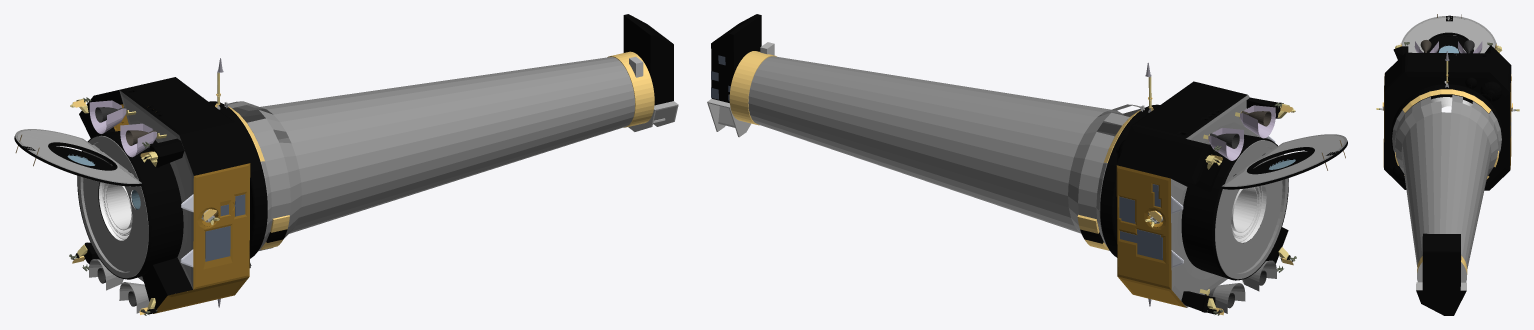
The model's file is fuselage 1.fbx.
3 views of the same model, side by side, from view 1: azimuth 30°, elevation 25°; view 2: azimuth 150°, elevation 25°; view 3: azimuth 270°, elevation 25° (orthographic). The views are drawn at different scales.
Parts seen in each view (by area): view 1: entire_spacecraft, mirrors_objs; view 2: entire_spacecraft, mirrors_objs; view 3: entire_spacecraft, mirrors_objs.
Part boxes in pixels (box(x1,y1,x2,y2)): entire_spacecraft: box(14, 14, 678, 315); mirrors_objs: box(101, 182, 132, 239); entire_spacecraft: box(707, 14, 1347, 315); mirrors_objs: box(1231, 186, 1262, 241); entire_spacecraft: box(1376, 14, 1519, 315); mirrors_objs: box(1430, 97, 1472, 107).
Size of the model in its own units: 216 by 81.28 by 61.92.
